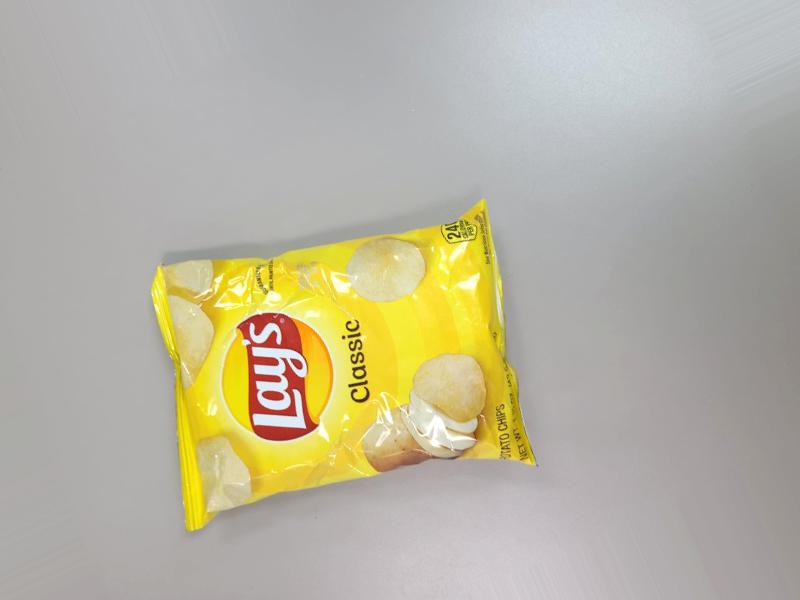lays: (115, 209, 527, 547)
